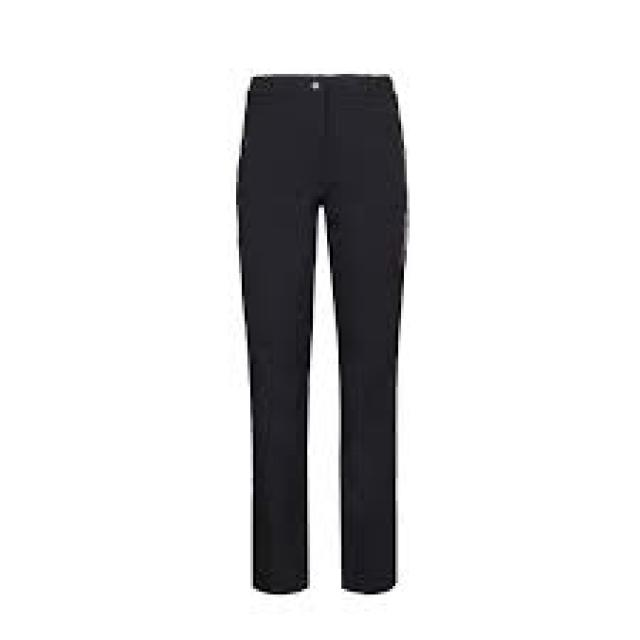pants: (234, 67, 414, 596)
